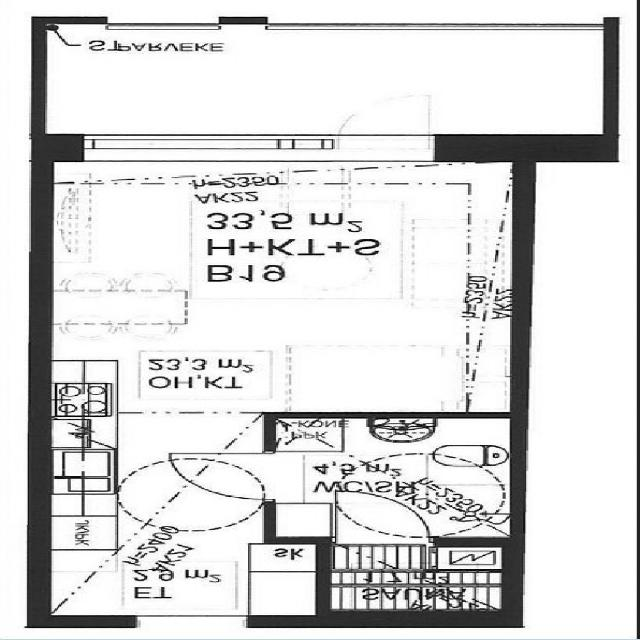door: (338, 90, 430, 161), (336, 492, 431, 542), (171, 454, 276, 498)
